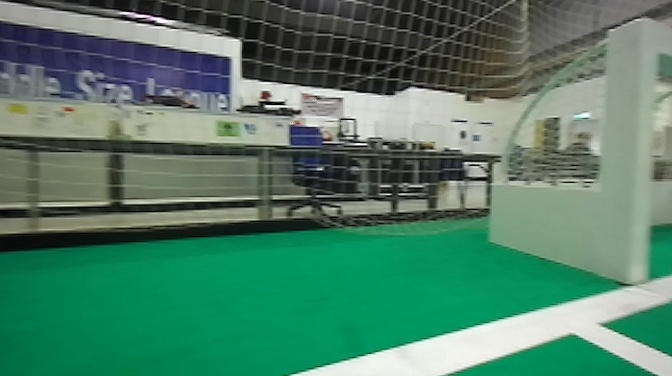goalpost: (613, 14, 652, 287)
